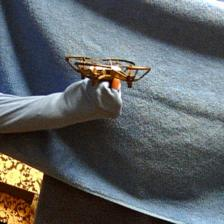drone: (64, 54, 150, 89)
